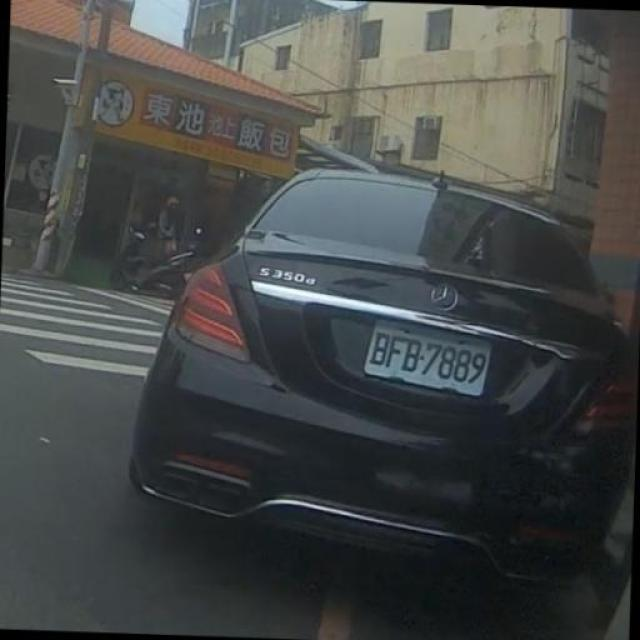illegalparking: (110, 152, 633, 575)
